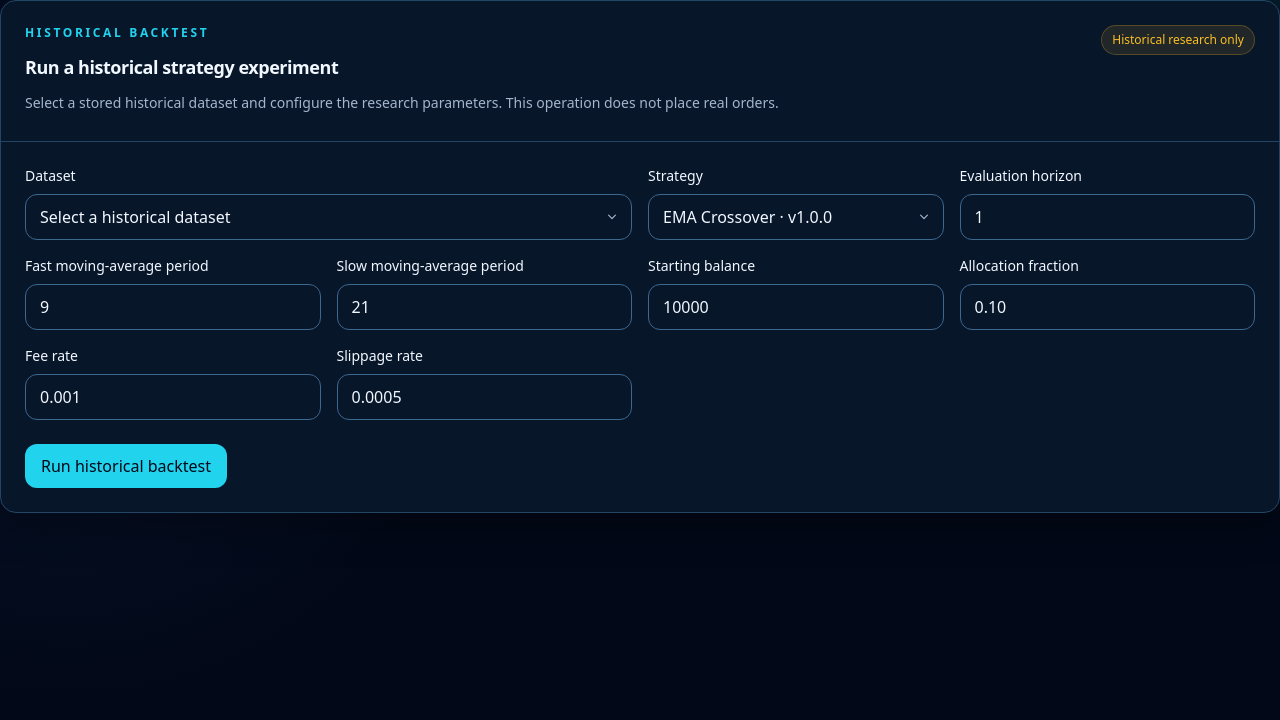
Test: ExperimentRunForm › shows running progress while polling
The image size is (1280, 720).
Select "BTC historical dataset · BTC/USDT · 1h" in the dropdown labelled "Dataset" at (328, 217), box [25, 194, 632, 240]
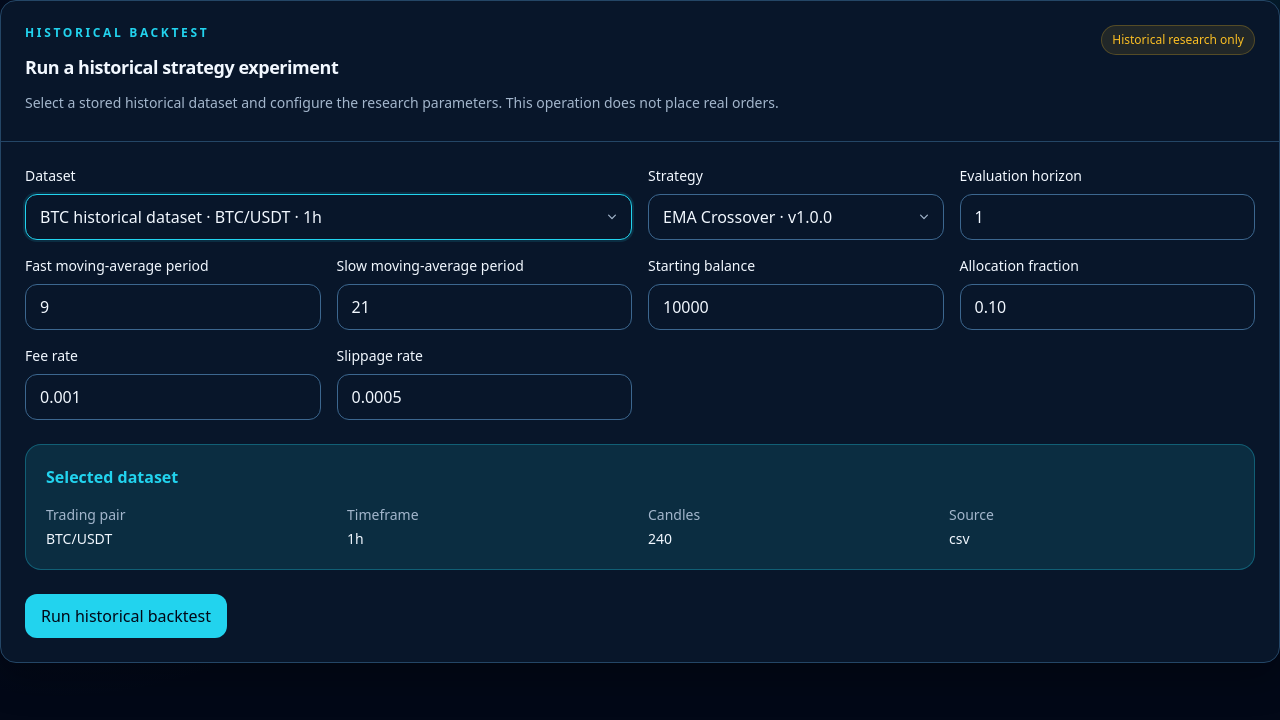
Click the button "Run historical backtest".
click(126, 616)  # box [25, 594, 227, 638]
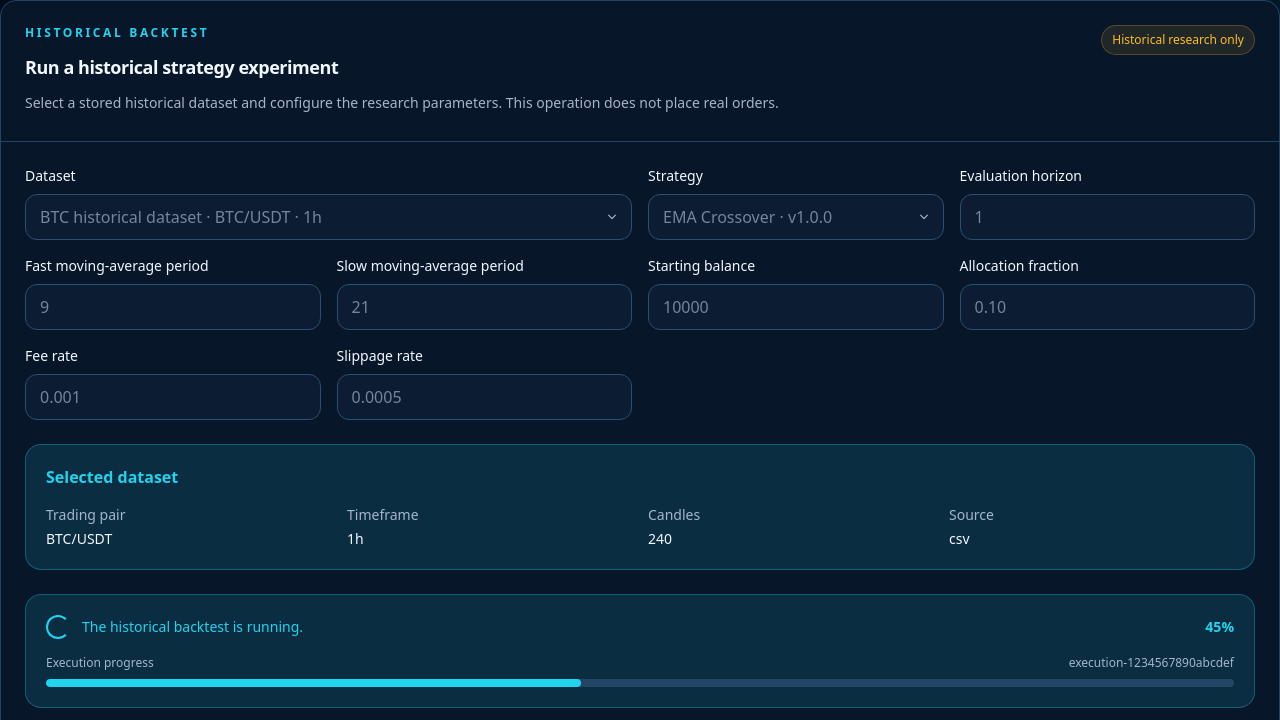
Result: the text "The historical backtest is running." is shown at [82, 617, 303, 637]
